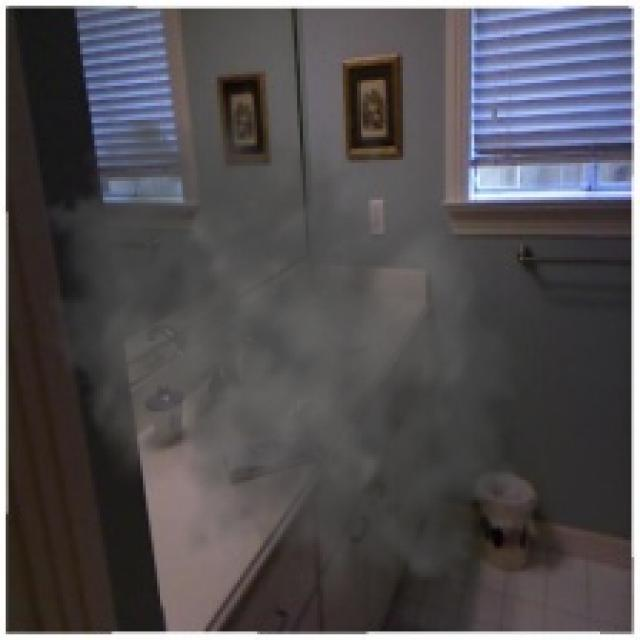smoke: (9, 74, 560, 623)
